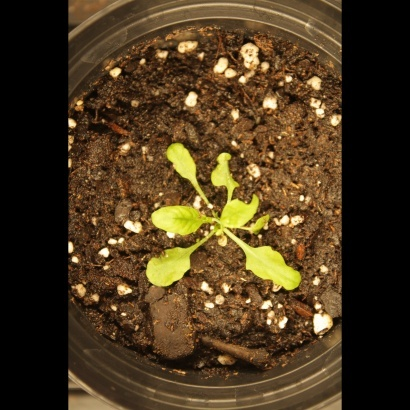leaf: (235, 239, 306, 291), (142, 245, 197, 291), (144, 204, 211, 237), (161, 136, 202, 188), (210, 143, 246, 195), (221, 193, 261, 226), (252, 213, 275, 238)
